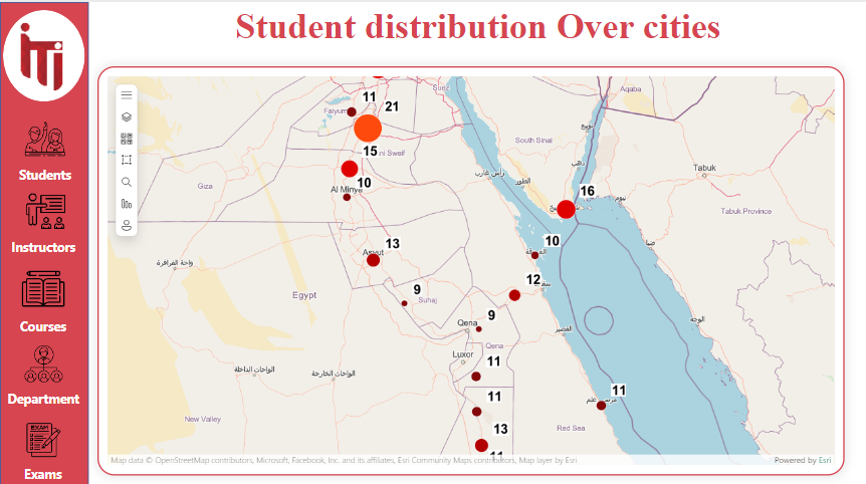

Layout of this report page (visuals, bound fields, positions):
{"tool":"powerbi","page":{"name":"Student distribution Over cities","canvas":[1280,720],"ordinal":6},"visuals":[{"type":"textbox","box":[131.7,0,1148.8,79],"z":0},{"type":"image","box":[7.2,272.1,119.5,72],"z":0,"group":"g1"},{"type":"shape","box":[0,0,131,720],"z":1000},{"type":"image","box":[5.7,167,121,69.1],"z":1000,"group":"g1"},{"type":"shape","box":[4.3,11.5,121,135.4],"z":2000},{"type":"textbox","box":[11.5,236.1,109.4,36],"z":2000,"group":"g1"},{"type":"image","box":[0,11.5,125.3,123.8],"z":3000},{"type":"textbox","box":[1.4,344.1,125.3,43.2],"z":3000,"group":"g1"},{"type":"esriVisual","fields":{"Color":["Count(Fact_student.StudentID)"],"Size":["Count(Fact_student.StudentID)"],"Location":["Fact_student.std_Address"]},"box":[143.5,94.6,1104.4,604.5],"z":4000},{"type":"image","box":[1.4,387.3,125.3,73.4],"z":4000,"group":"g1"},{"type":"group","id":"g1","title":"Group 1","box":[1.4,167,125.3,553],"z":5000},{"type":"image","box":[1.4,613.4,125.3,66.2],"z":5000,"group":"g1"},{"type":"actionButton","box":[0,0,100,40],"z":6000},{"type":"textbox","box":[1.4,460.8,123.8,43.2],"z":6000,"group":"g1"},{"type":"textbox","box":[1.4,679.6,123.8,40.3],"z":7000,"group":"g1"},{"type":"image","box":[1.4,501.1,125.3,66.2],"z":8000,"group":"g1"},{"type":"textbox","box":[1.4,567.3,125.3,46.1],"z":9000,"group":"g1"}]}

Visuals, with their boxes on the page's 1280x720 design canvas (x1, y1, x2, y2). These are canvas units, not pixel positions in the 866x484 screenshot, which may show the page scaled, cropped or inside an application window:
textbox: 132 0 1280 79
image: 7 272 127 344
shape: 0 0 131 720
image: 6 167 127 236
shape: 4 12 125 147
textbox: 12 236 121 272
image: 0 12 125 135
textbox: 1 344 127 387
esriVisual - Count(Fact_student.StudentID) x Count(Fact_student.StudentID): 144 95 1248 699
image: 1 387 127 461
"Group 1" group: 1 167 127 720
image: 1 613 127 680
actionButton: 0 0 100 40
textbox: 1 461 125 504
textbox: 1 680 125 720
image: 1 501 127 567
textbox: 1 567 127 613
